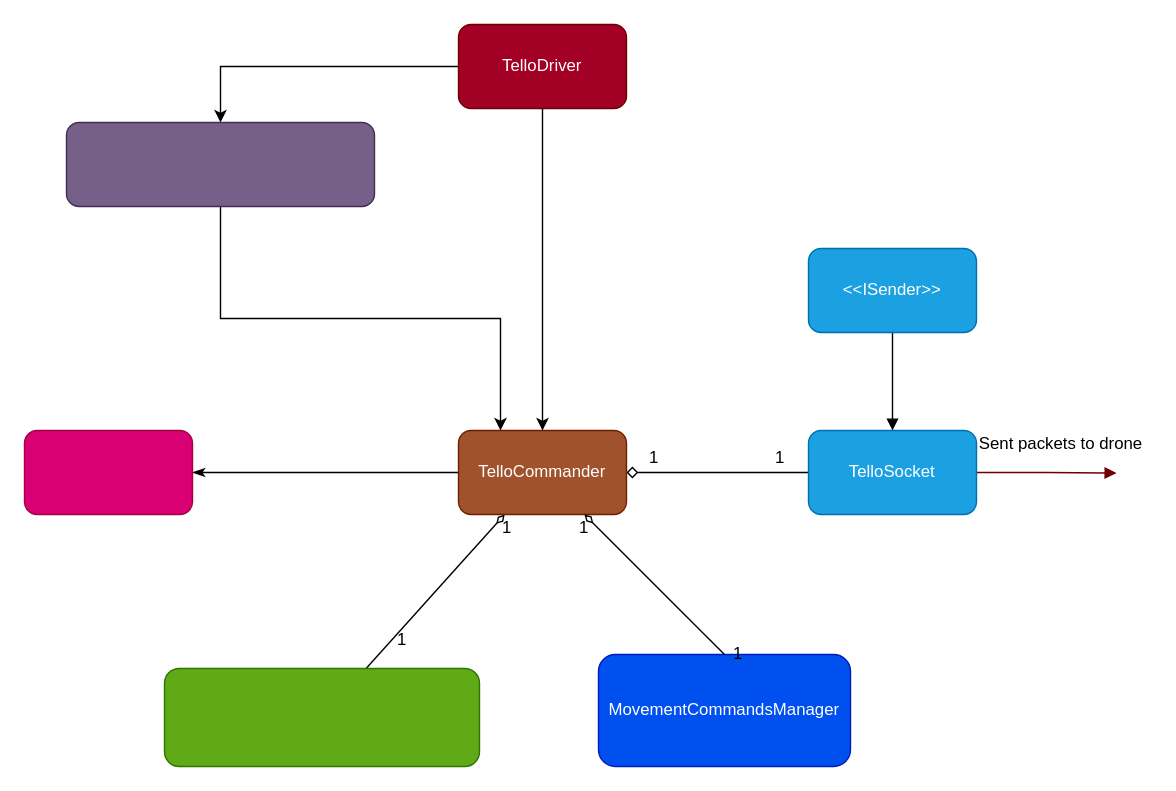
Image size: 1176x791. Some labels were removed from this diagram. Each missing label, with the centre of its shape:
MovementsToPacketConverter: the point at 321,716
SPDLOGGER: the point at 107,471
TelloStickCommandsObserver: the point at 219,163
